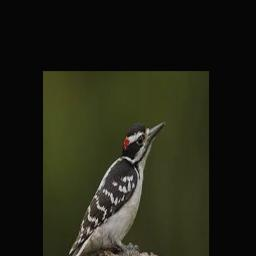Woodpecker: (66, 120, 165, 256)
